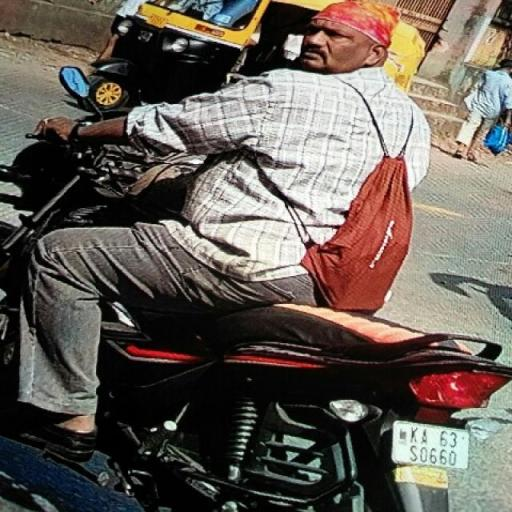bike: (0, 0, 509, 512)
numberplate: (391, 417, 474, 472)
withouthelmet: (300, 1, 398, 67)
